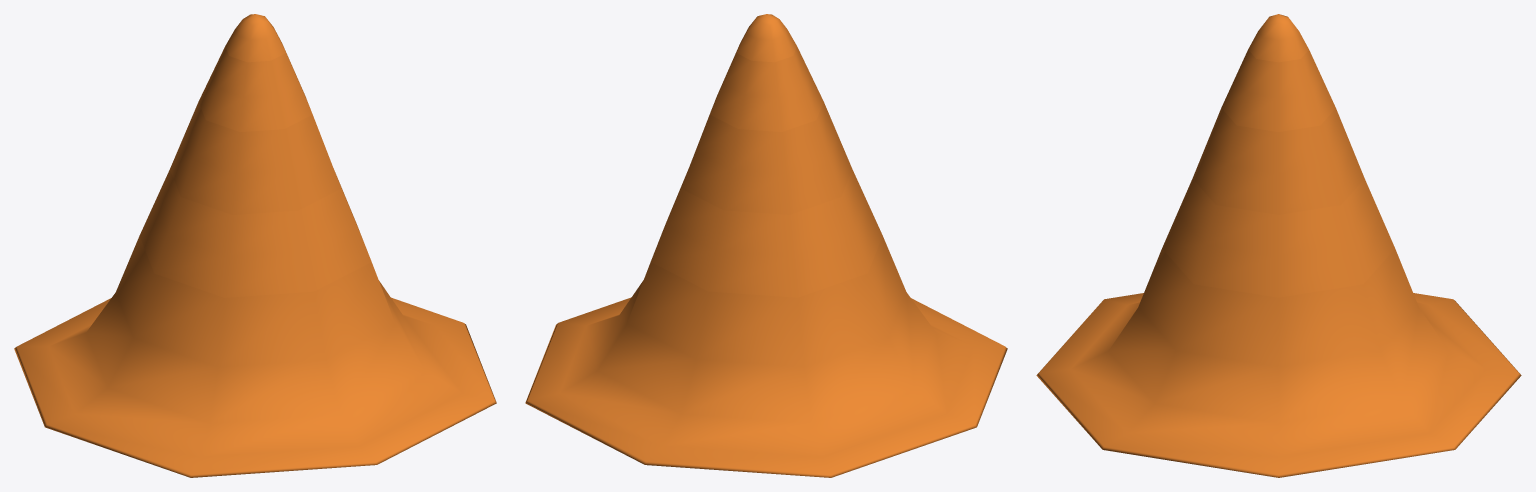
Rendered from trafik konisi .fbx.
The picture shows the model from 3 angles, left to right: view 1: azimuth 30°, elevation 25°; view 2: azimuth 150°, elevation 25°; view 3: azimuth 270°, elevation 25°; orthographic projection.
Parts seen in each view (by area): view 1: Uçak.002; view 2: Uçak.002; view 3: Uçak.002.
Boxes of the visible parts, box(x1,y1,x2,y2) form: Uçak.002: box(14, 14, 496, 477); Uçak.002: box(525, 14, 1007, 477); Uçak.002: box(1036, 14, 1521, 477).
Size of the model in its own units: 174 by 144 by 174.
